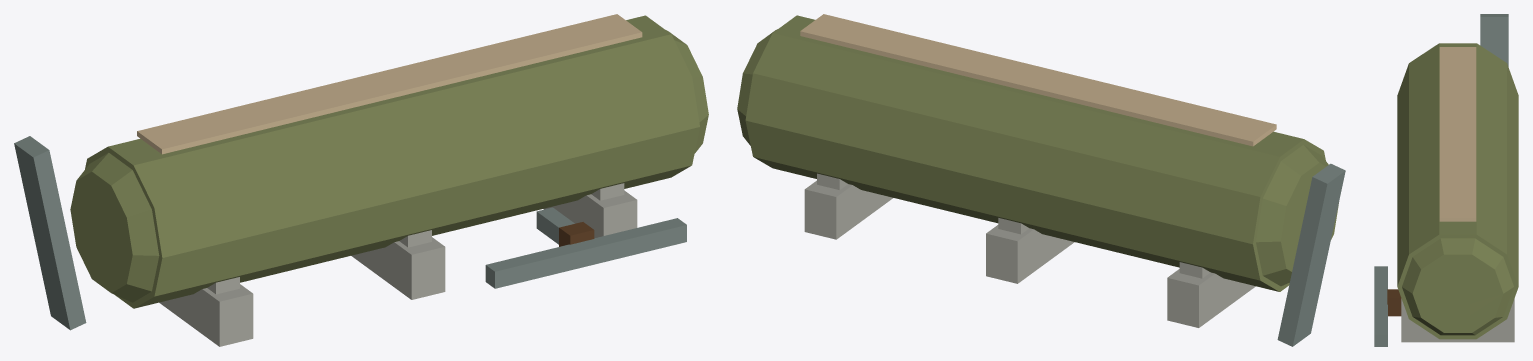
The model's file is SM_TanqueCombustible_v1_LOD1.fbx.
3 renders of one model, left to right at view 1: azimuth 30°, elevation 25°; view 2: azimuth 150°, elevation 25°; view 3: azimuth 270°, elevation 25°, orthographic. The views are drawn at different scales.
Visible parts, largest first — view 1: SM_tanque_combustible_v1_LOD1; view 2: SM_tanque_combustible_v1_LOD1; view 3: SM_tanque_combustible_v1_LOD1.
Boxes of the visible parts, <box> form: SM_tanque_combustible_v1_LOD1: <box>14,14,708,346</box>; SM_tanque_combustible_v1_LOD1: <box>737,14,1345,346</box>; SM_tanque_combustible_v1_LOD1: <box>1374,14,1518,346</box>.
Bounding box in the file's own units: 13.1 × 3.7 × 3.57.
